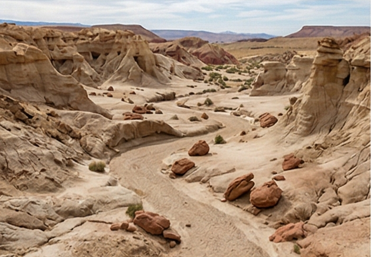rocks: (223, 172, 282, 208), (134, 210, 169, 236), (170, 158, 194, 176), (283, 154, 303, 170), (188, 140, 209, 155), (260, 113, 276, 127)
